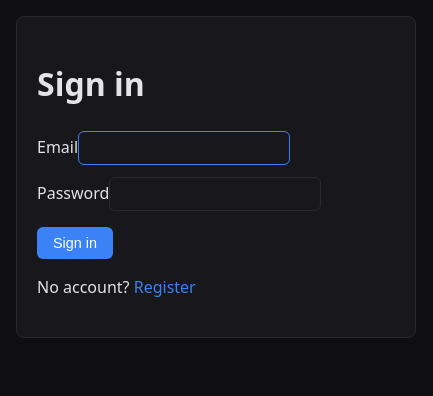
LoginPage › shows error on bad credentials
Type "user@test.com" into the field labelled "Email".
click(184, 148); type("user@test.com")  # box left=78, top=131, right=290, bottom=165
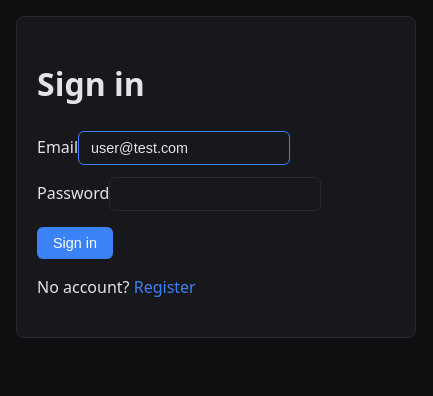
Type "wrongpassword" into the password field labelled "Password".
click(215, 194); type("wrongpassword")  # box left=109, top=177, right=321, bottom=211
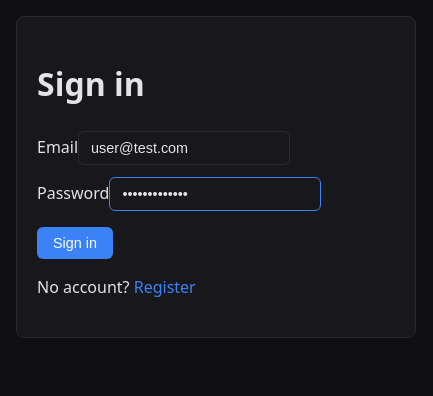
Click the button "Sign in".
click(75, 243)  # box left=37, top=227, right=113, bottom=259
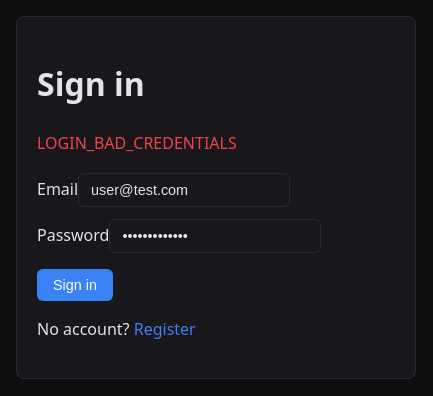
Expected: the text "LOGIN_BAD_CREDENTIALS" is shown, left=37, top=132, right=237, bottom=154
